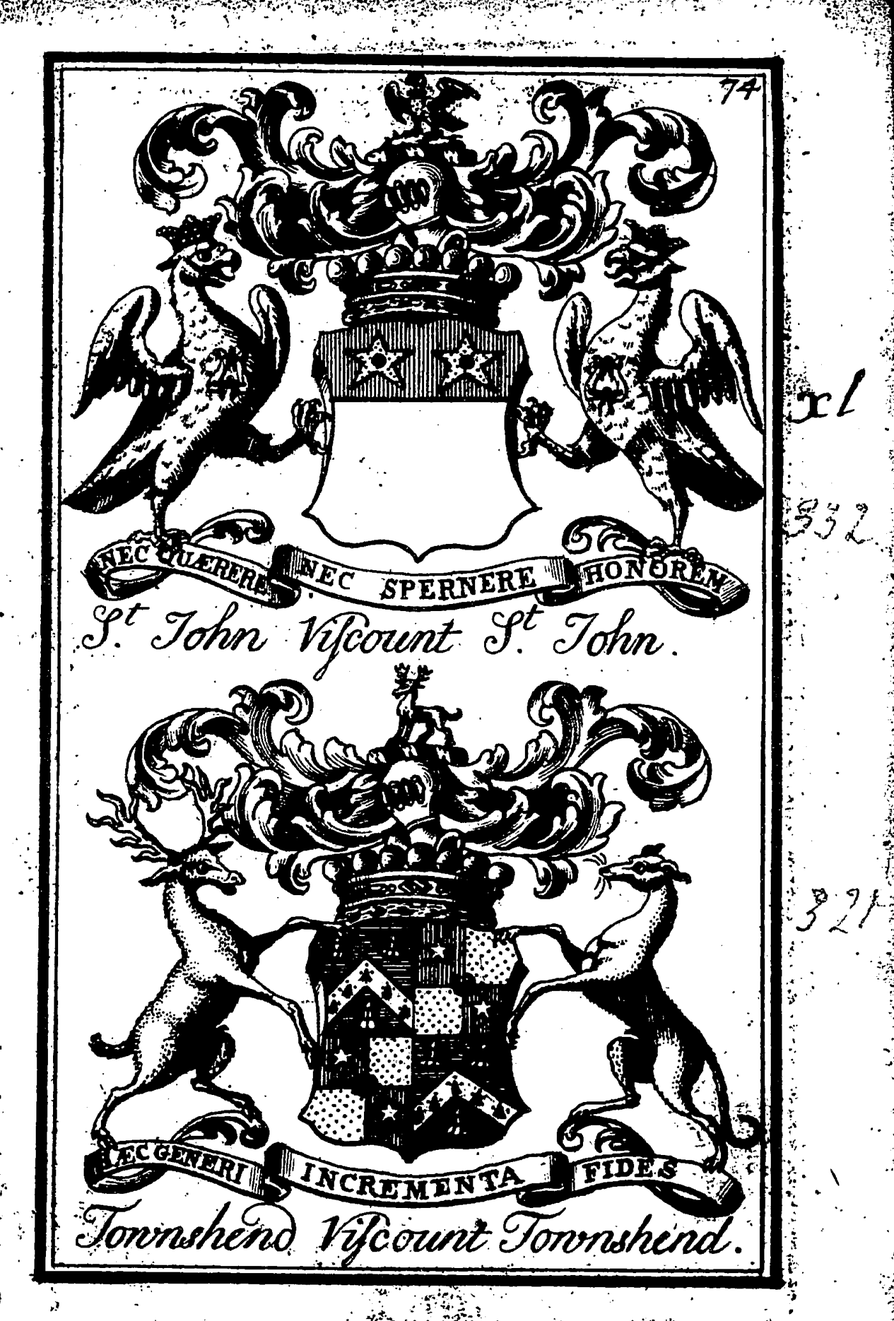coat_of_arms: (73, 674, 773, 1267), (70, 73, 756, 674)
